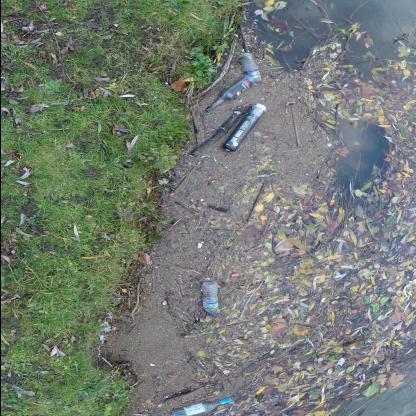cam: (204, 74, 254, 112), (169, 396, 234, 415)
metal: (221, 102, 266, 152)
plastik: (236, 53, 260, 83), (200, 282, 218, 315)
